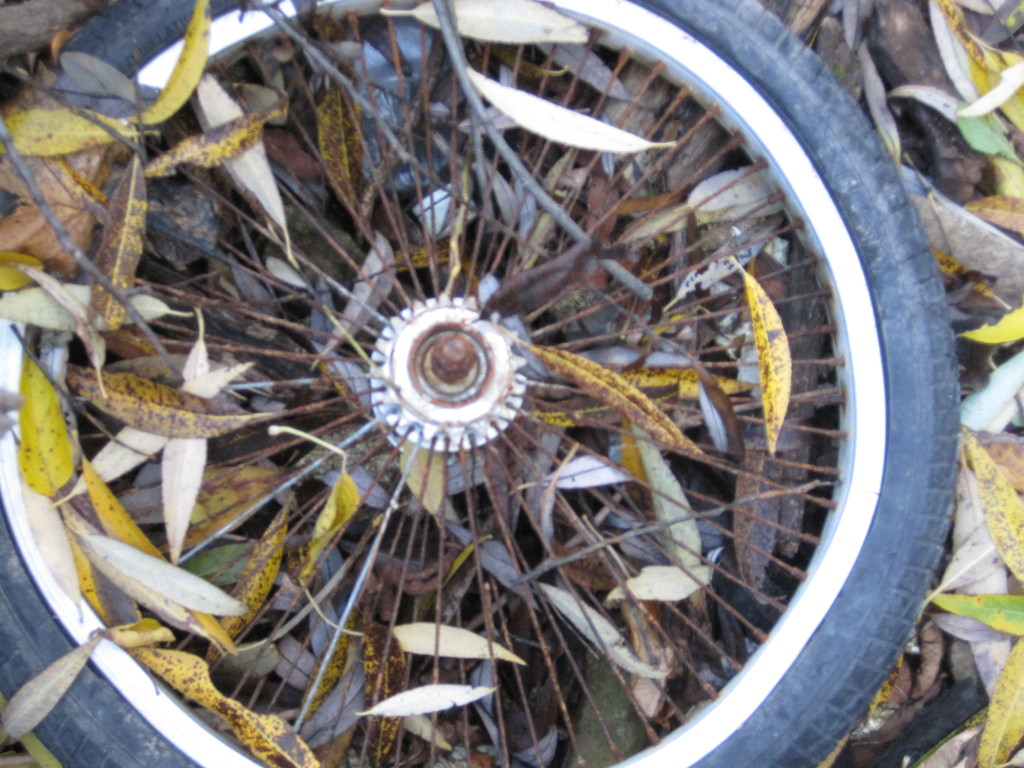Wheel: (0, 0, 961, 765)
